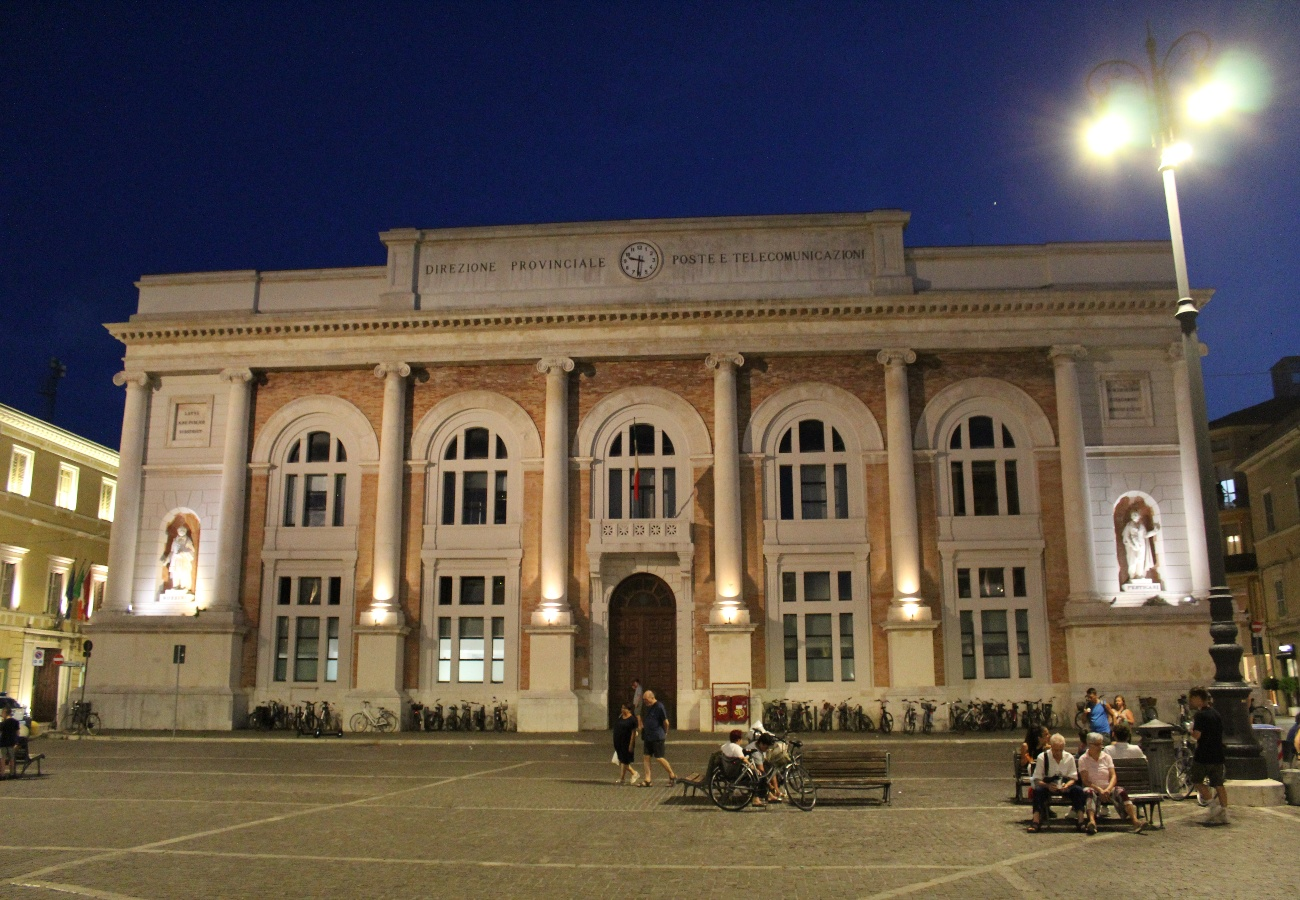Palazzo delle Poste: (82, 206, 1235, 735)
